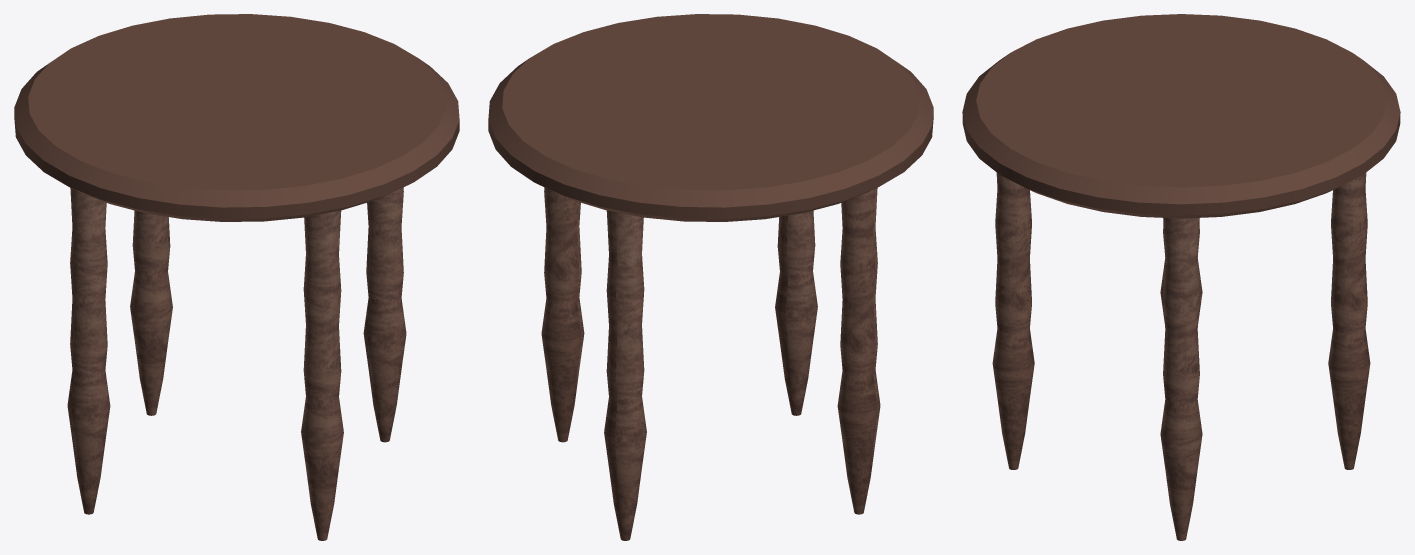
The model's file is TarotTable.fbx.
3 renders of one model, left to right at view 1: azimuth 30°, elevation 25°; view 2: azimuth 150°, elevation 25°; view 3: azimuth 270°, elevation 25°, orthographic.
Visible parts, largest first — view 1: Table; view 2: Table; view 3: Table.
Boxes of the visible parts, <box> form: Table: <box>14,14,459,540</box>; Table: <box>488,14,933,540</box>; Table: <box>962,14,1400,540</box>.
Bounding box in the file's own units: 214 × 198 × 214.
